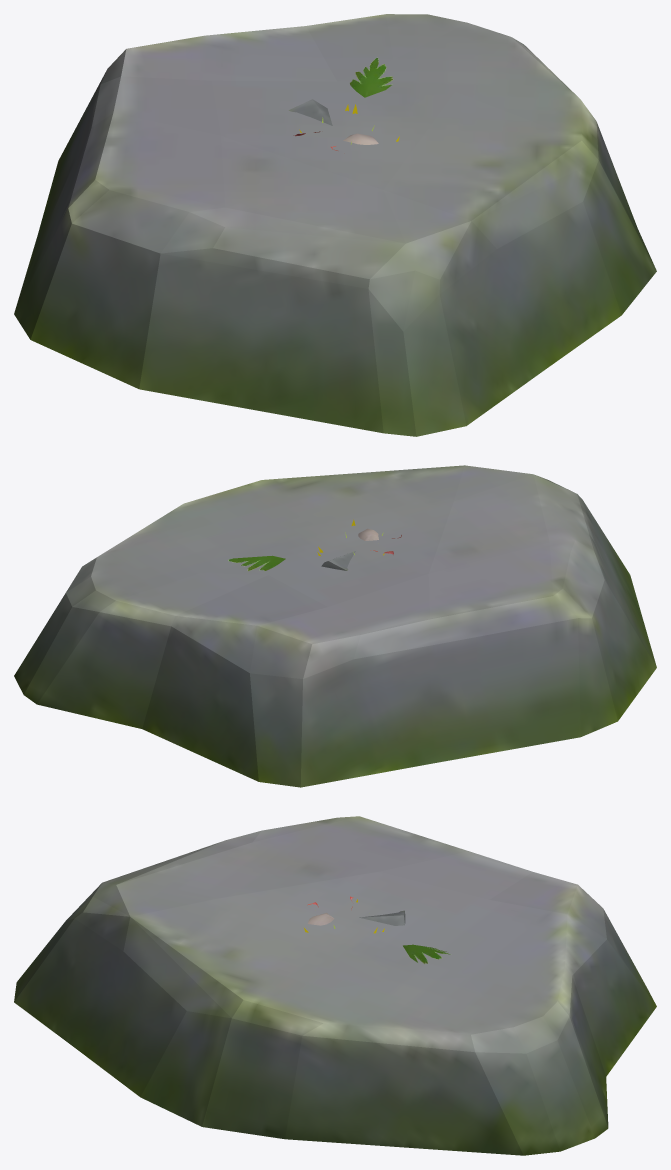
Rendered from sherwood-nature-dressing.glb.
3 renders of one model, top to bottom at view 1: azimuth 30°, elevation 25°; view 2: azimuth 150°, elevation 25°; view 3: azimuth 270°, elevation 25°, orthographic. The views are drawn at different scales.
Visible parts, largest first — view 1: Nature_Pebble_Round_3, Nature_Fern_1; view 2: Nature_Pebble_Round_3, Nature_Fern_1; view 3: Nature_Pebble_Round_3, Nature_Fern_1.
Part boxes in pixels (x1,y1,x2,y2): Nature_Pebble_Round_3: [14, 14, 656, 436]; Nature_Fern_1: [350, 57, 393, 97]; Nature_Pebble_Round_3: [14, 465, 656, 787]; Nature_Fern_1: [228, 555, 285, 571]; Nature_Pebble_Round_3: [14, 816, 656, 1155]; Nature_Fern_1: [403, 944, 451, 964].
Bounding box in the file's own units: 4.56 × 1 × 4.92.
Materials: 8 (8 with a texture image).
